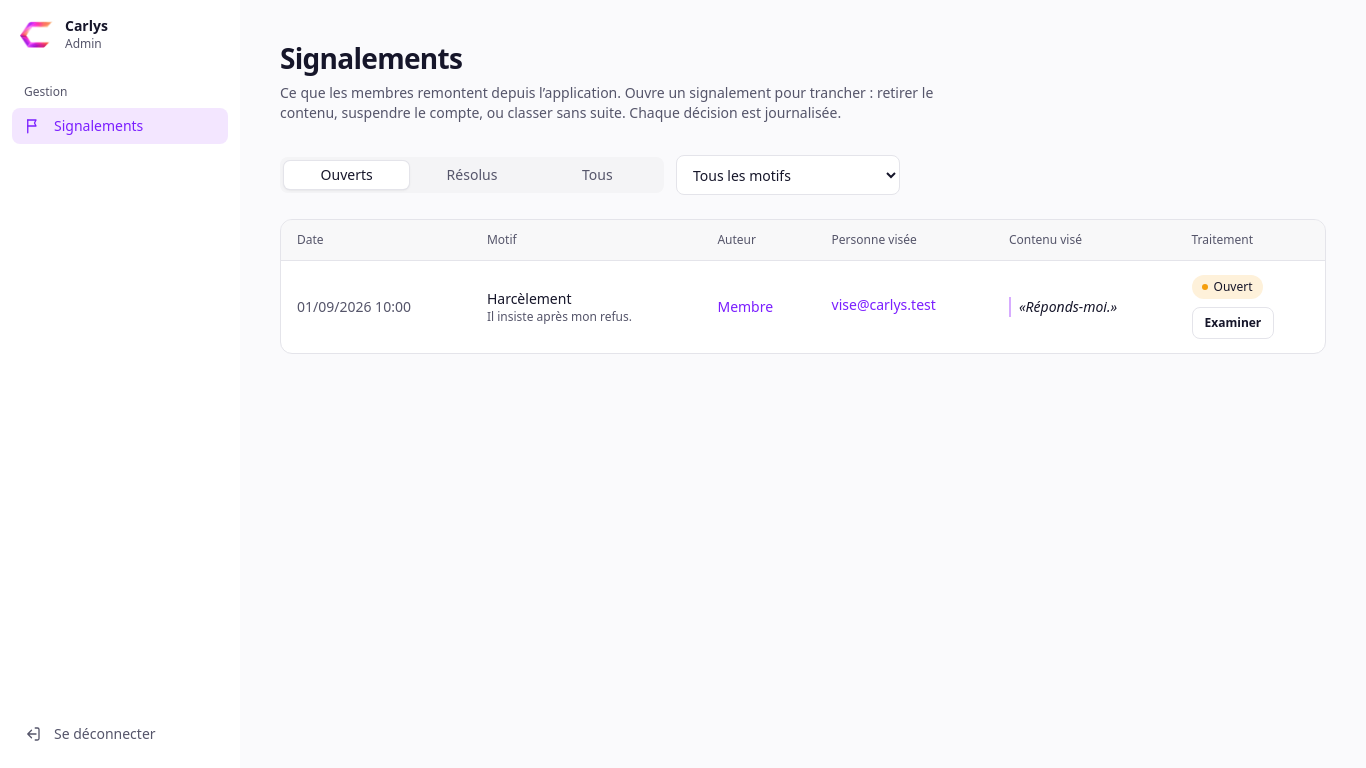
Page Signalements › décision › sans user:update, la suspension est expliquée et indisponible
What coordinates should you click on to do the following:
click the button "Examiner"
I would click on:
 (1233, 323)
Its box is [1192,307,1274,339].
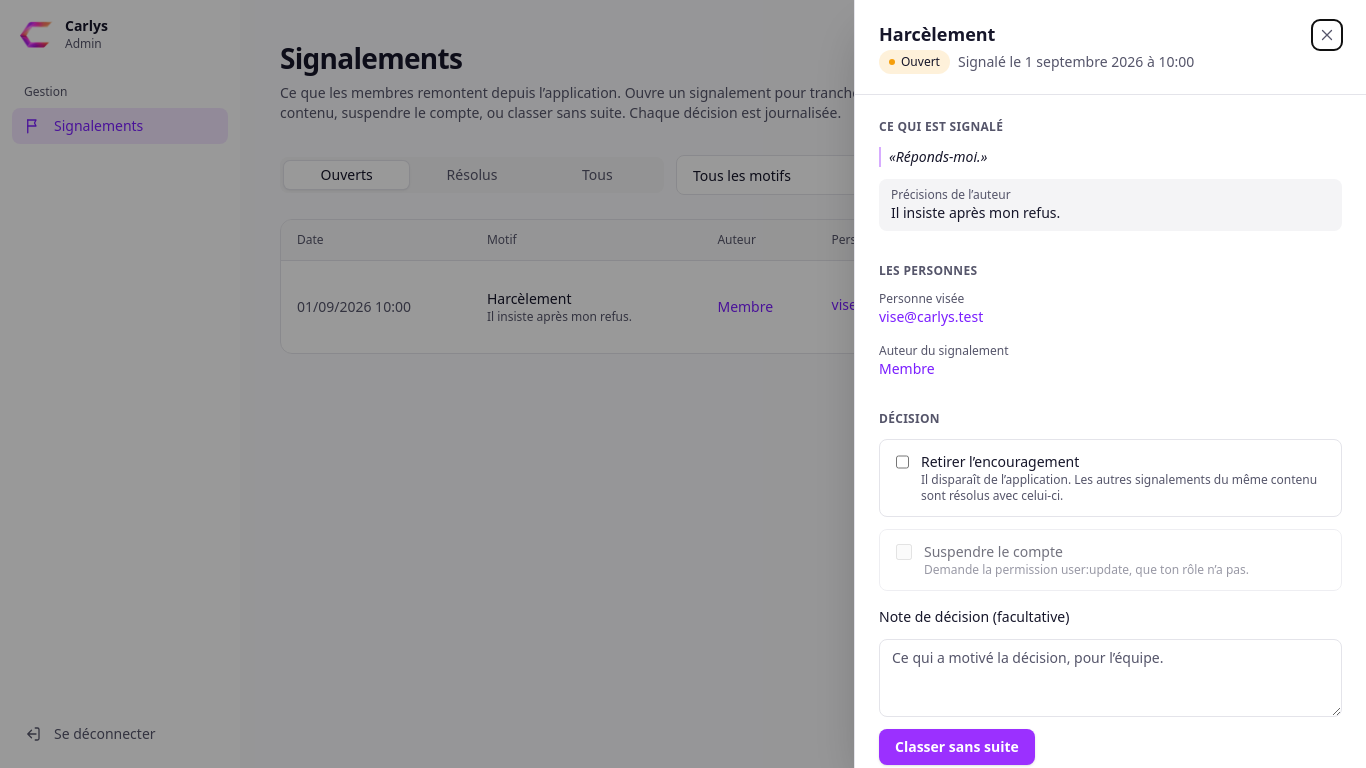
Expected: the checkbox labelled "Suspendre le compte" is disabled, [896,544,912,560]
Expected: the text "Demande la permission user:update, que ton rôle n’a pas." is shown, [924,562,1249,578]
